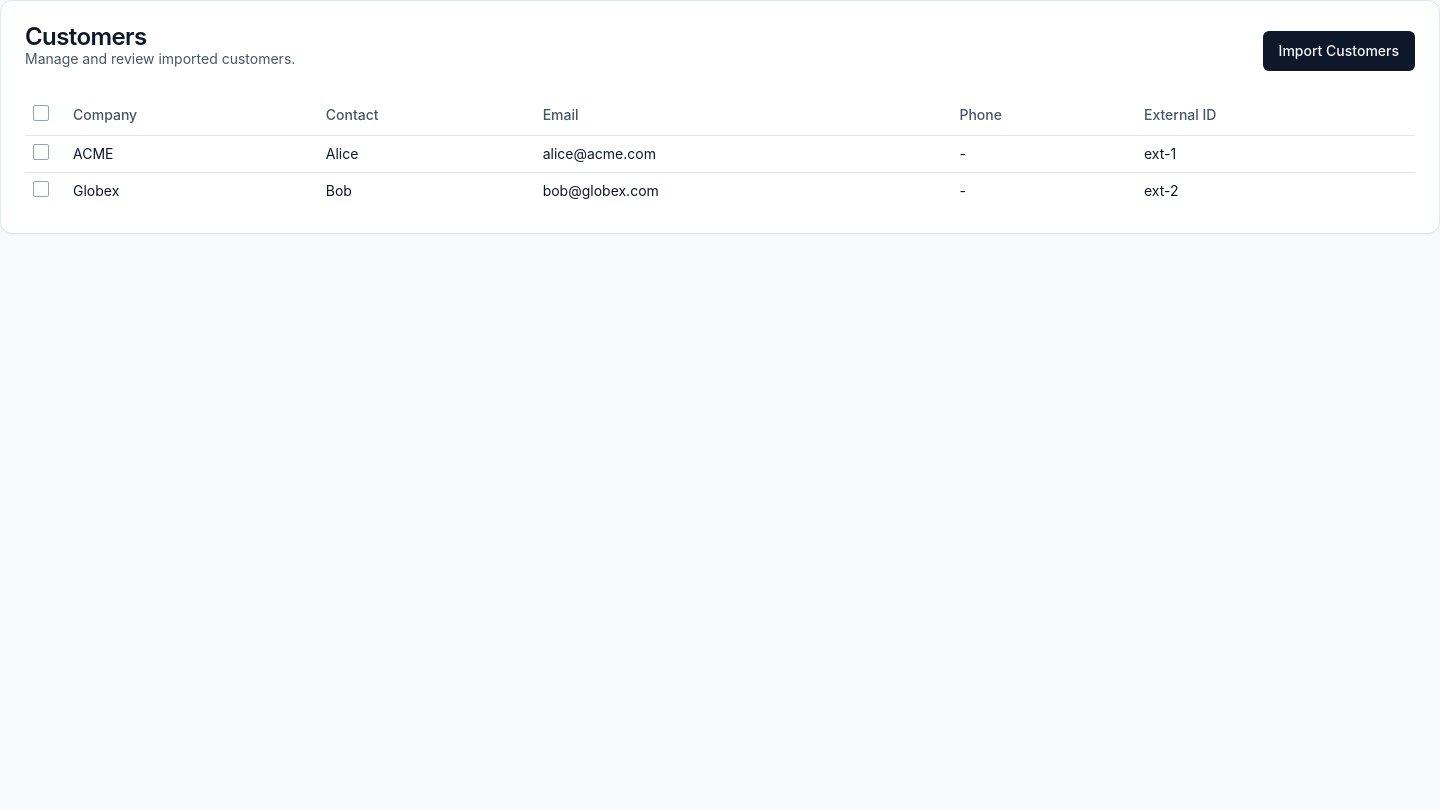
it: CustomersPage › deletes selected customers after confirmation and refreshes list
This screenshot has width=1440, height=810.
Click the checkbox named "Select all customers": click(41, 113) x1=33 y1=105 x2=49 y2=121
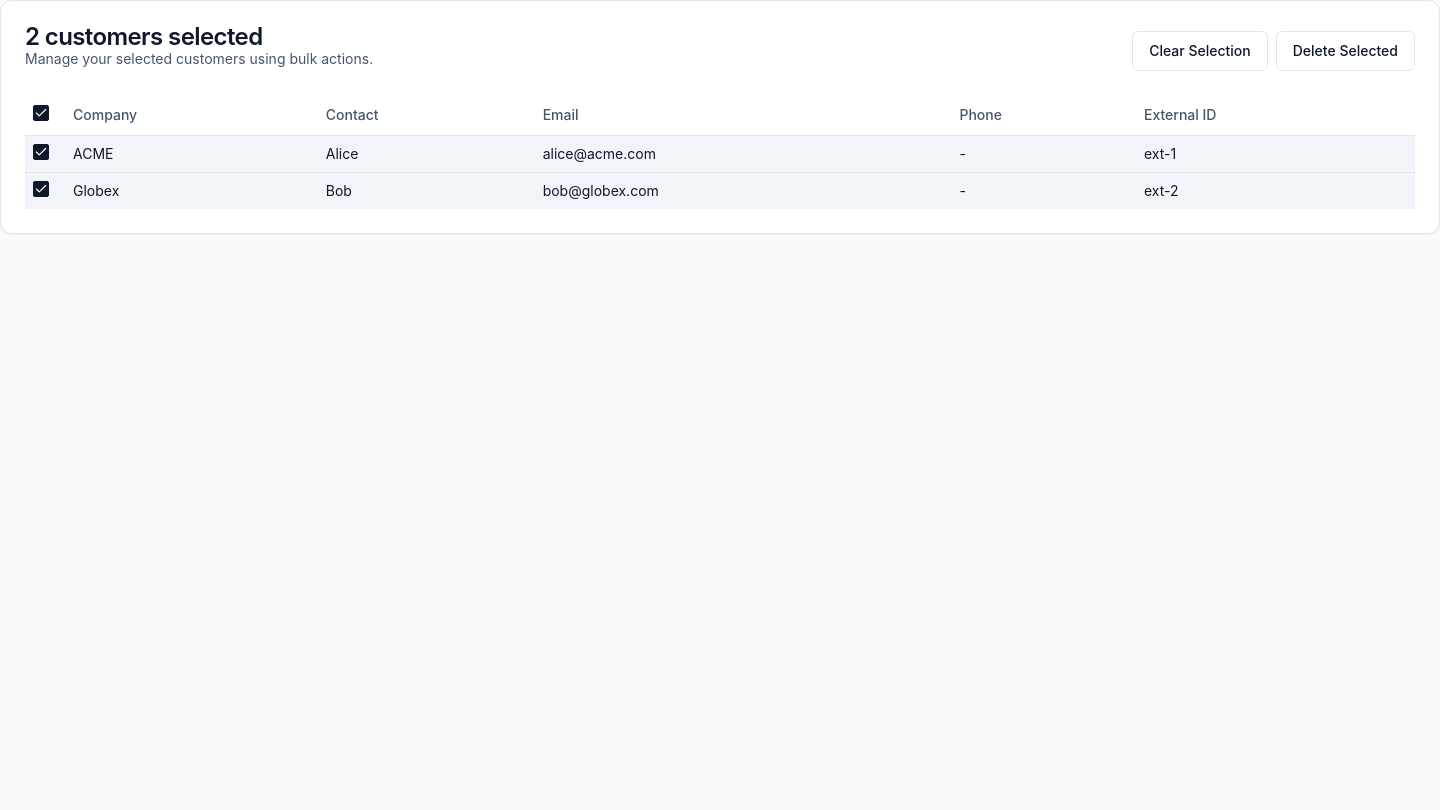
Click the button "Delete Selected": click(1345, 51) x1=1276 y1=31 x2=1415 y2=71
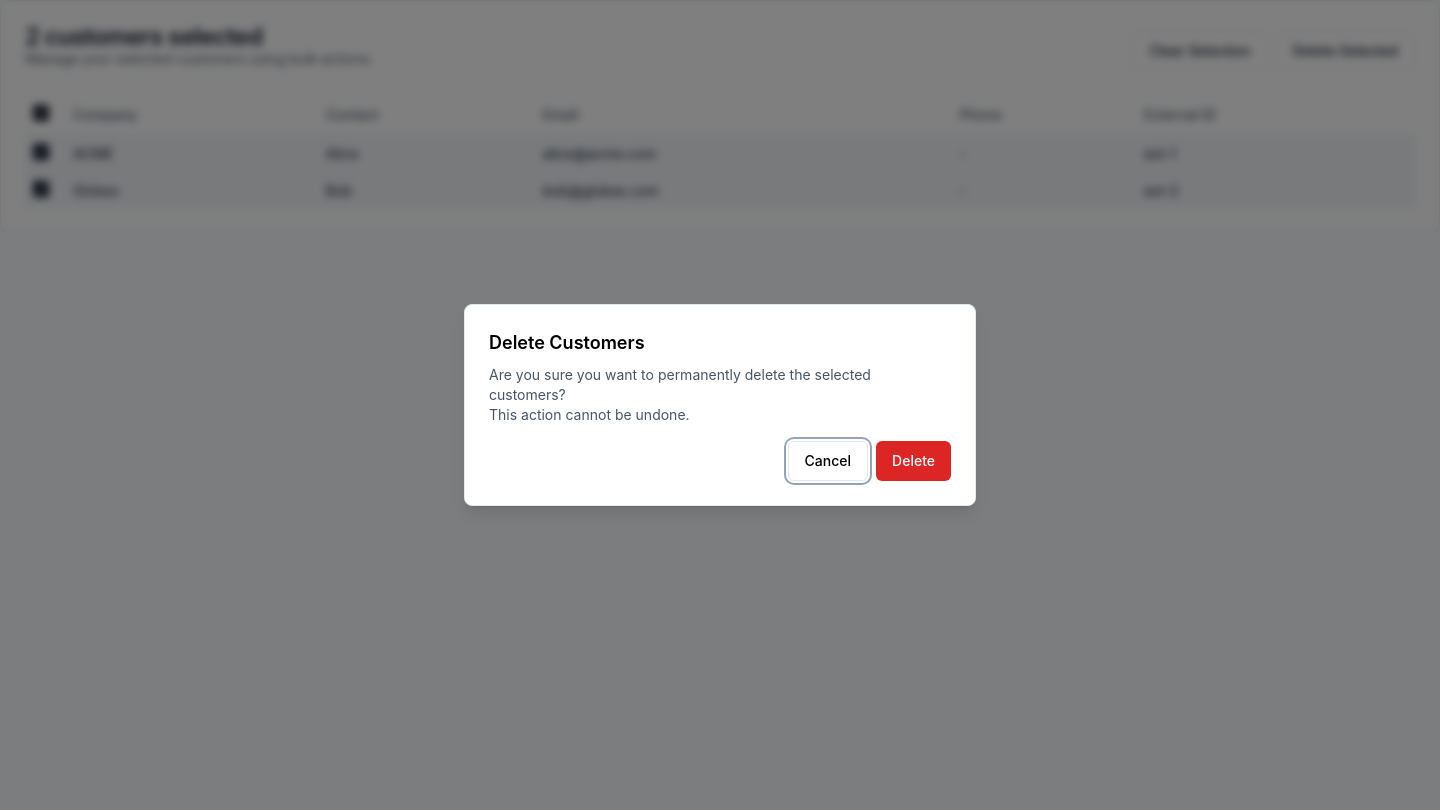
Expected: the heading "Delete Customers" is shown, x1=489 y1=332 x2=645 y2=353
Click the button "Delete": click(914, 461) x1=876 y1=441 x2=951 y2=481
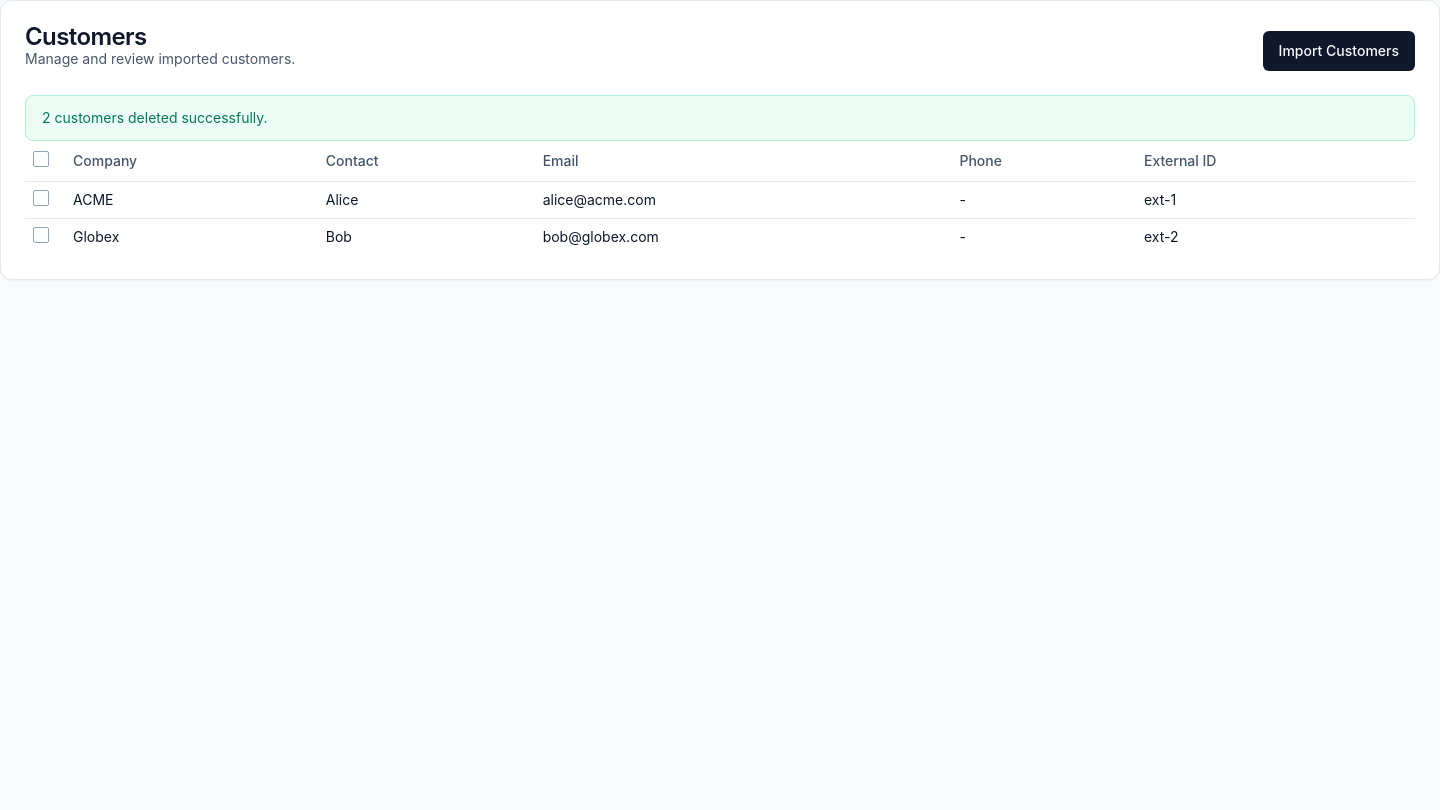
Expected: the text "2 customers deleted successfully." is shown, x1=25 y1=95 x2=1415 y2=141
Expected: the button "Import Customers" is shown, x1=1263 y1=31 x2=1415 y2=71
Expected: the button "Delete Selected" is gone
